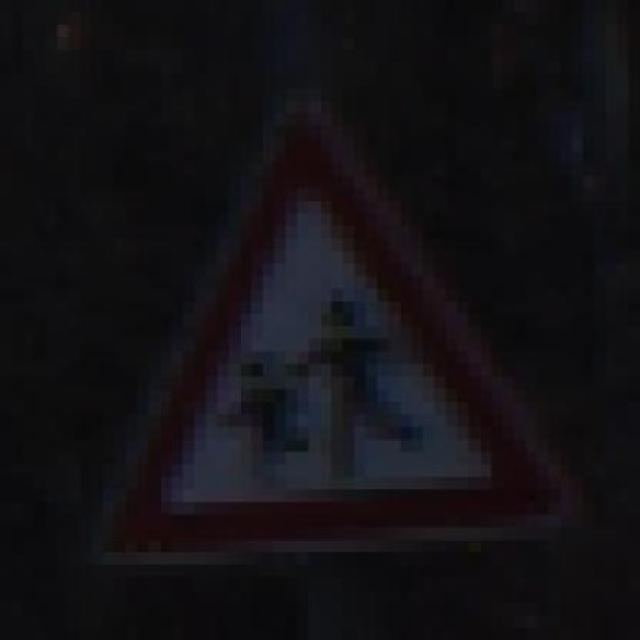Beware of children: (79, 76, 572, 564)
